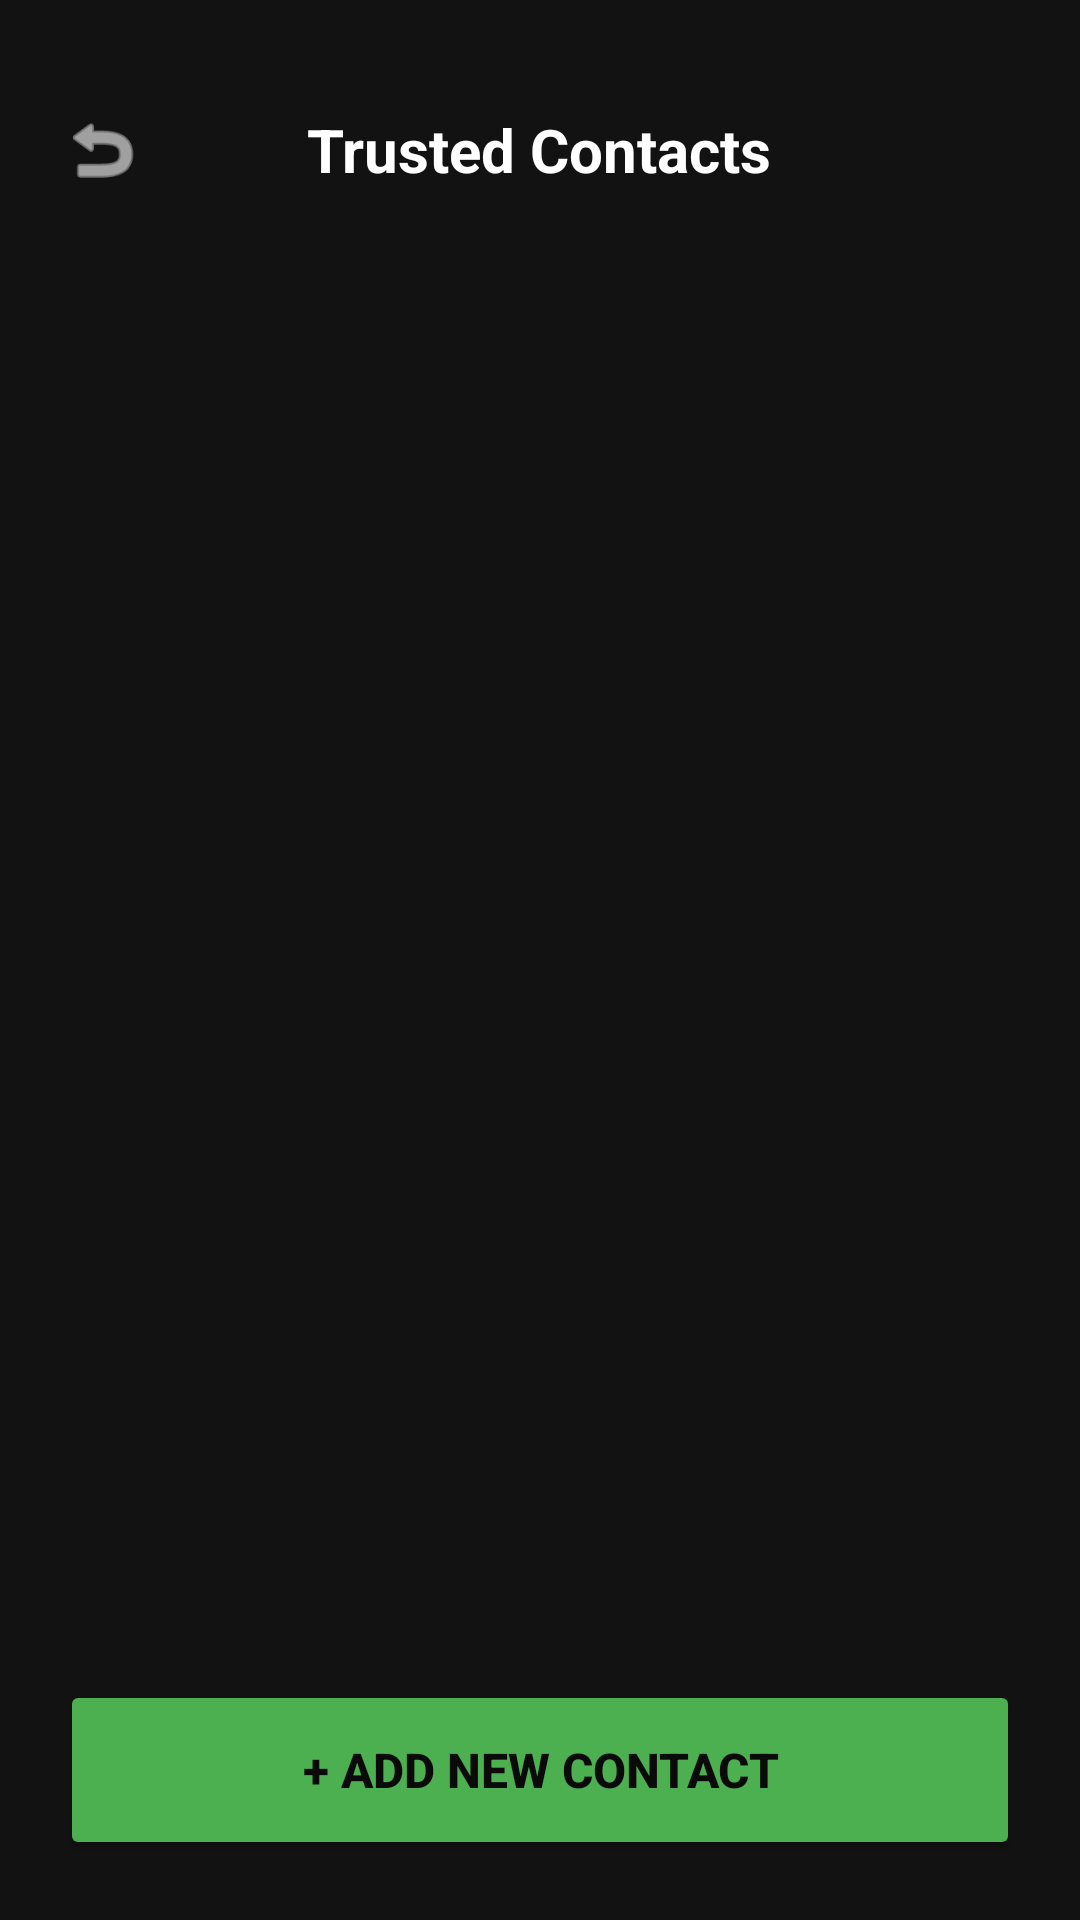

Icons on this 1080*1920 Android screen, each with the point to tap as (x,y):
revert: (103,150)
